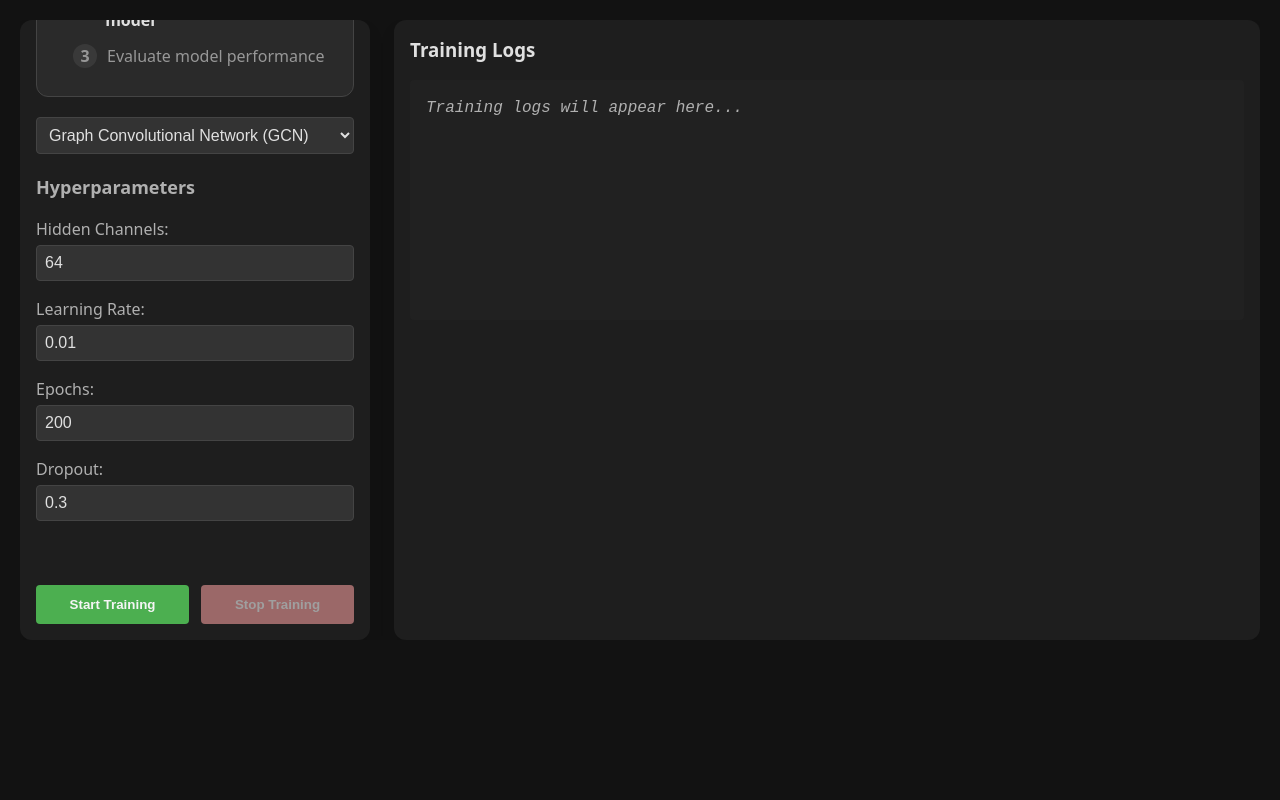
Test: TrainingTab Component (with GraphDataProvider) › displays training logs when messages are received
(page scrolled)
Click the button "Start Training".
click(112, 604)  # box [36,585,189,624]
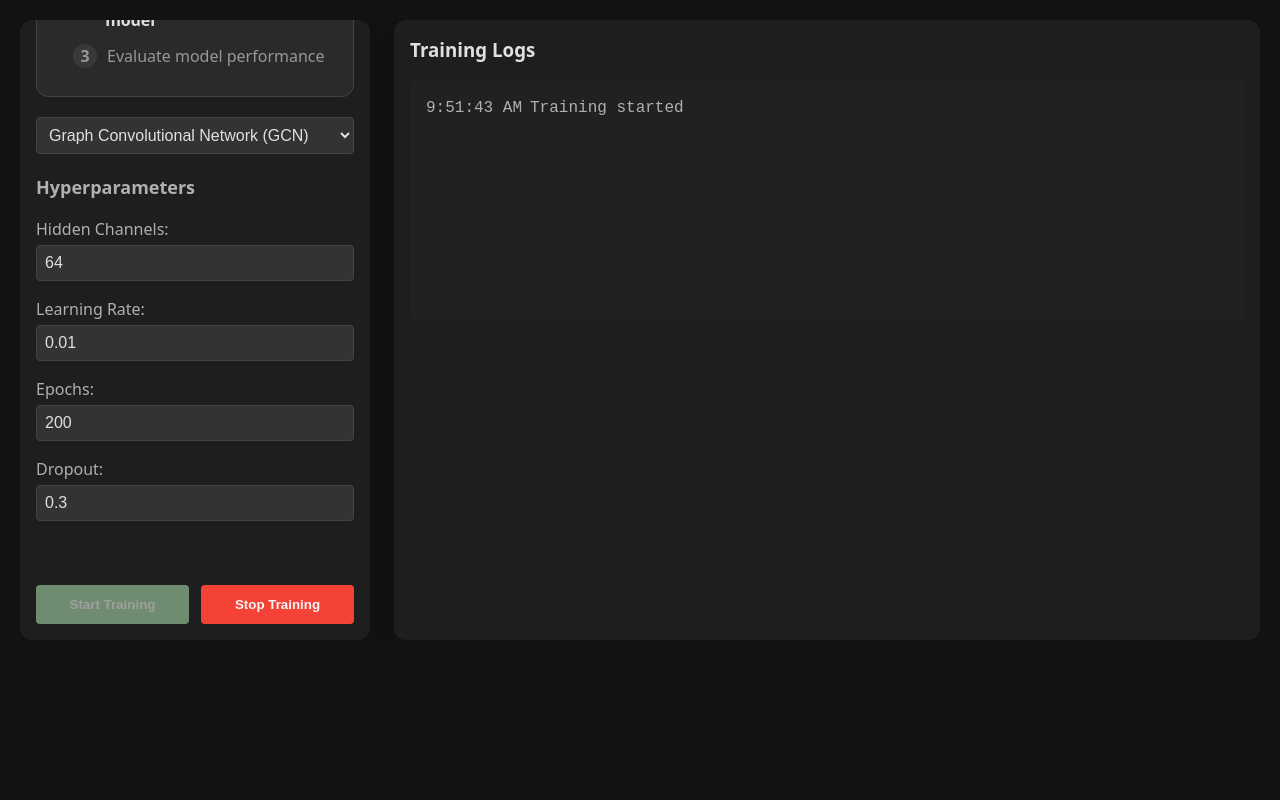
Now the element with test id "training-log-entry" is shown, box [426,99,684,117]
Now the text with test id "training-log-message" reads "Training started", box [530,99,684,117]
